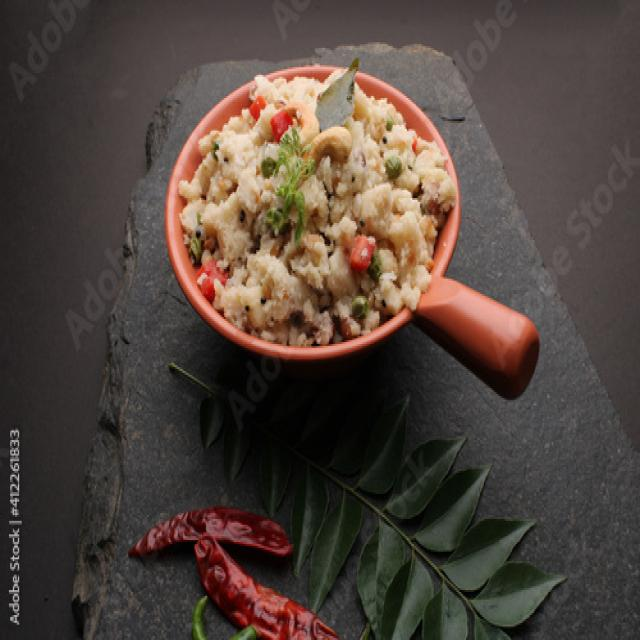UPMA: (179, 78, 453, 347)
